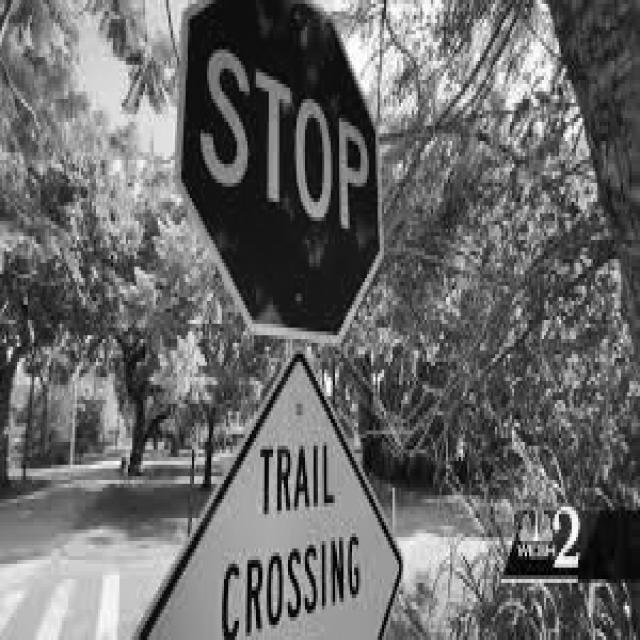stop sign: (184, 2, 385, 345)
